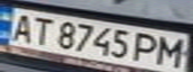4: (90, 25, 115, 57)
5: (109, 27, 136, 61)
7: (72, 21, 96, 54)
8: (51, 19, 78, 51)
A: (3, 10, 39, 43)
M: (154, 34, 190, 68)
P: (130, 30, 163, 64)
T: (27, 15, 57, 46)
